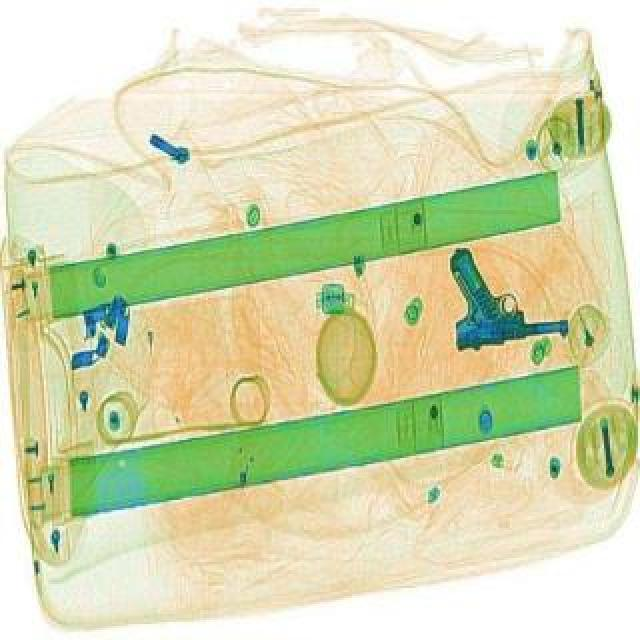gun: (438, 234, 570, 356)
